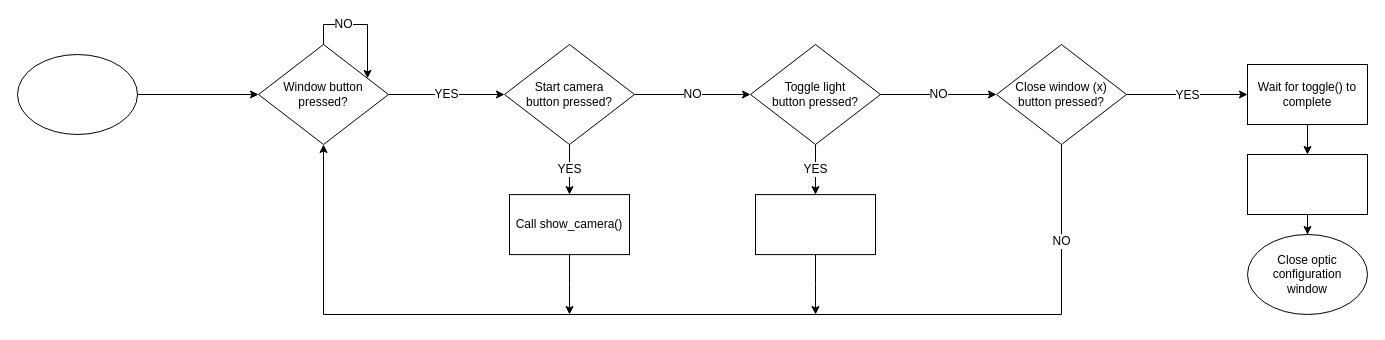
Some shapes in this 1385 by 340 pixel diagram are drawn without their labels. The shapes that lost their labels are listed below. From the top down, each one's centre as x and y in pixels, then its label:
At point 77,94: "Start optics configuration window".
At point 1307,184: "Stop show_camera()".
At point 815,224: "Call toggle()".
